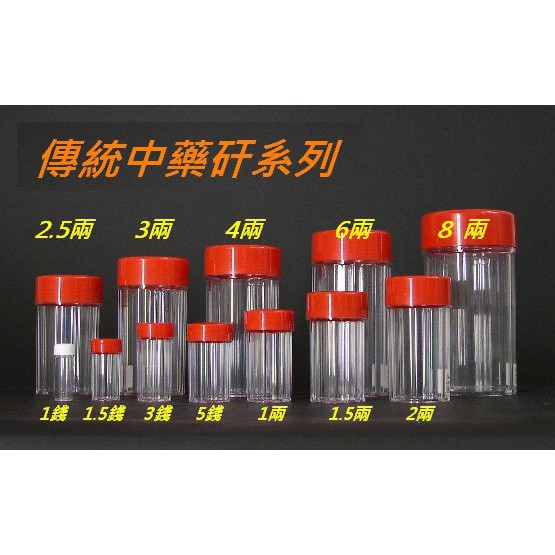medicinejar: (422, 210, 518, 399), (312, 229, 391, 397), (201, 241, 287, 393), (114, 256, 190, 397), (383, 276, 456, 407), (33, 270, 103, 394), (305, 290, 367, 405), (244, 309, 297, 403), (188, 320, 232, 397), (136, 323, 174, 401), (90, 337, 123, 400), (55, 344, 79, 403)
